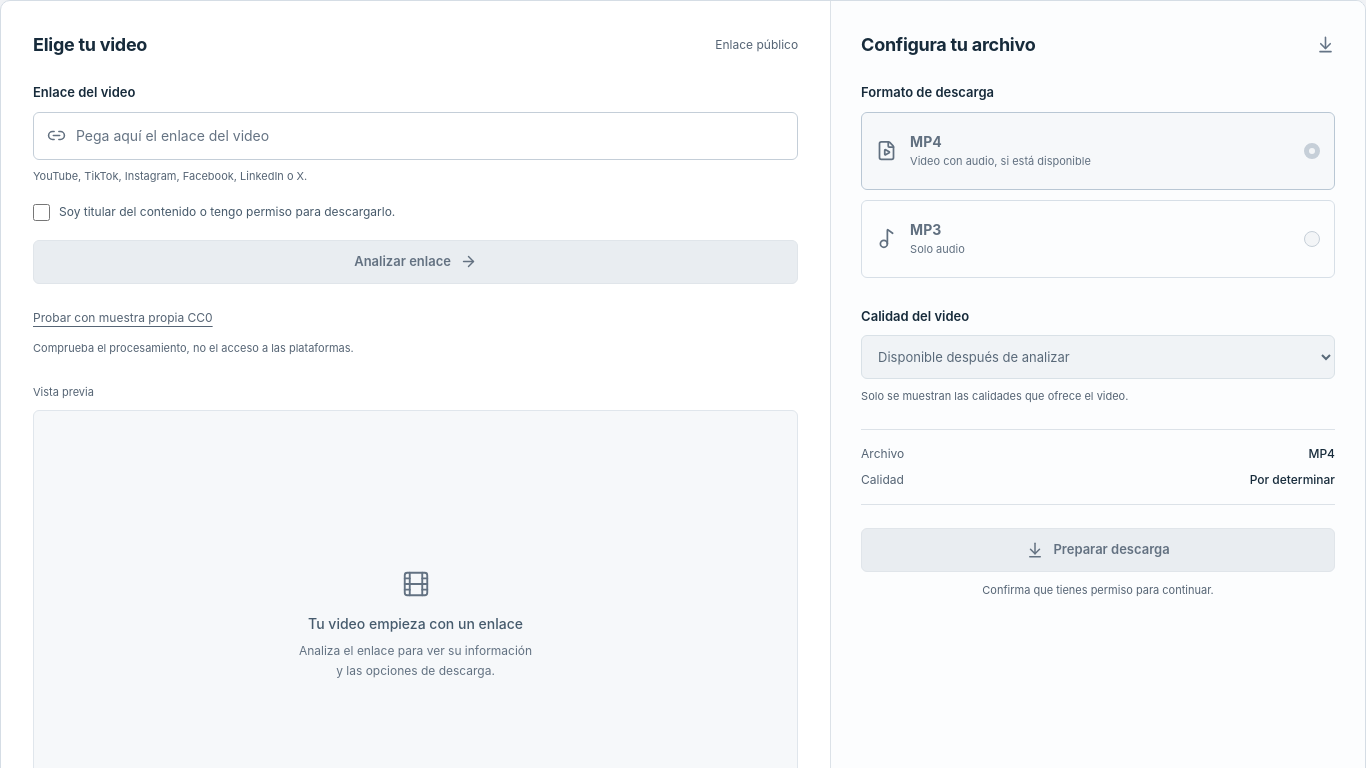
Test case: Export desk › invalidates inspected metadata when the URL changes
Type "https://www.youtube.com/watch?v=example" into the field labelled "Enlace del video" at [430, 136], box [76,112,784,158]
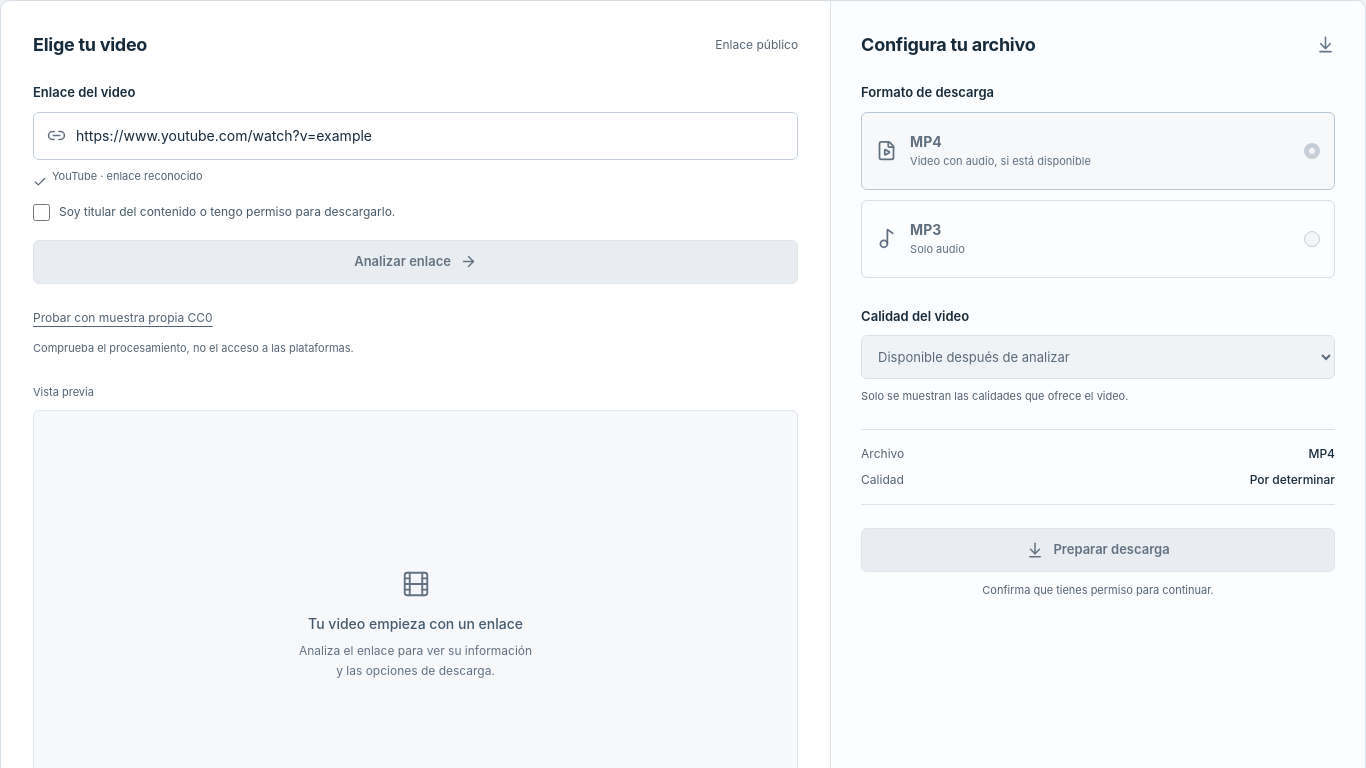
Click the checkbox at [42, 212], box [33,204,50,220]
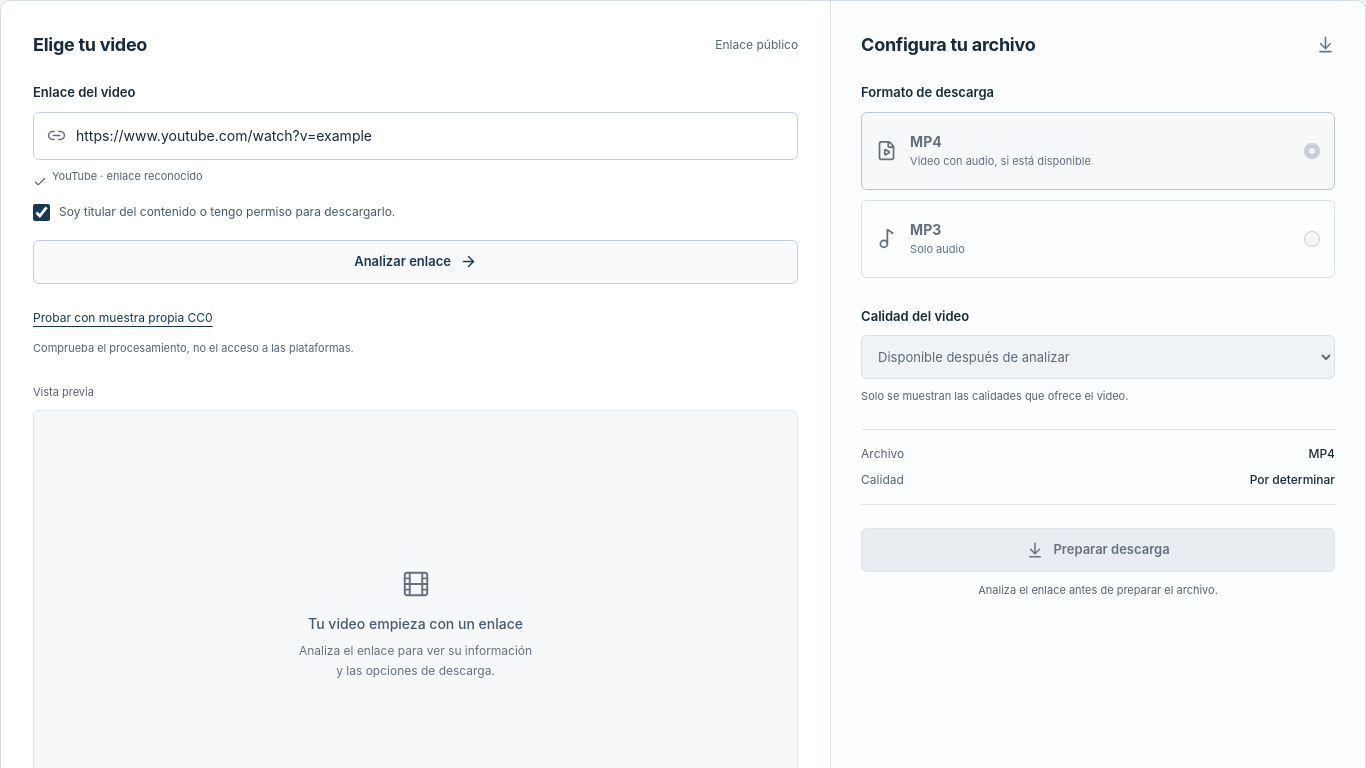
Click the button "Analizar enlace" at [416, 262], box [33,240,798,284]
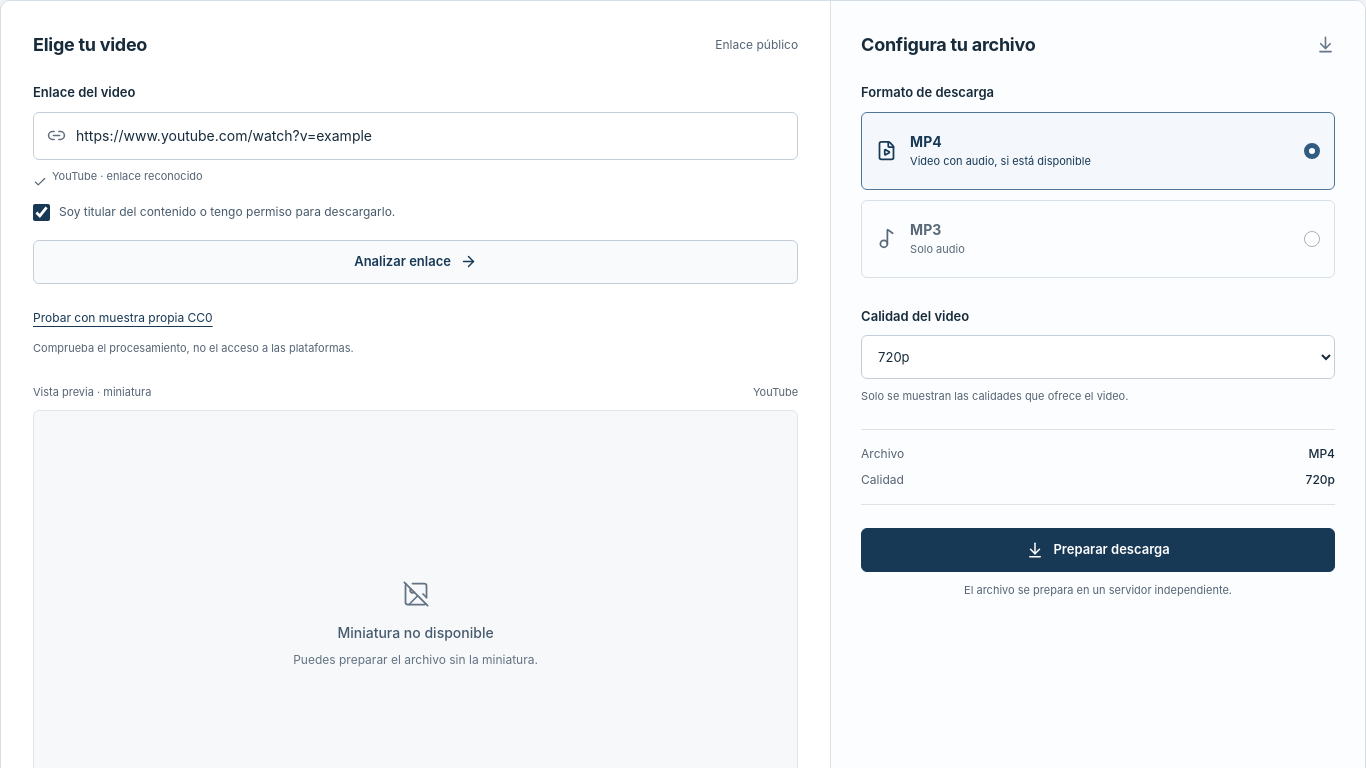
Replace the text in the field labelled "Enlace del video" with "https://x.com/user/status/123" at [430, 136], box [76,112,784,158]
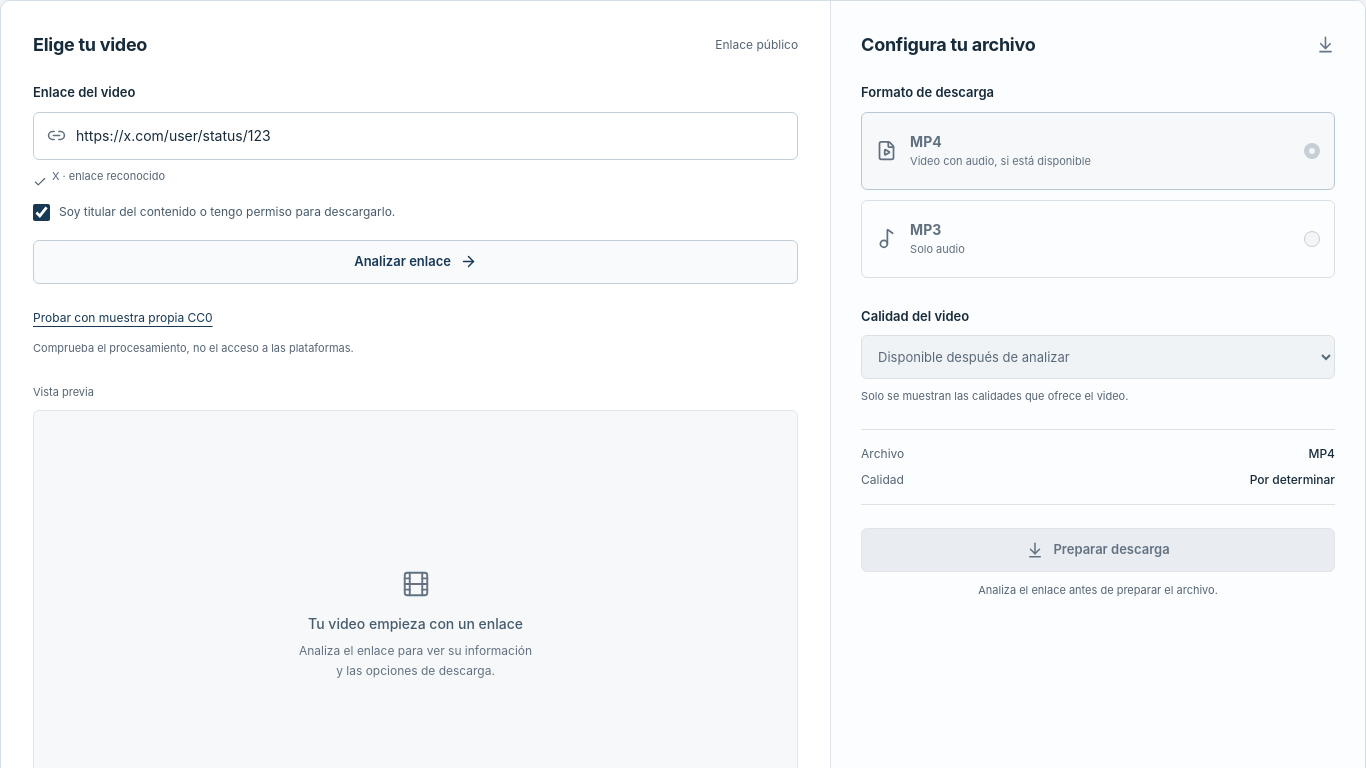
Expected: the button "Preparar descarga" is disabled, [861,528,1335,572]
